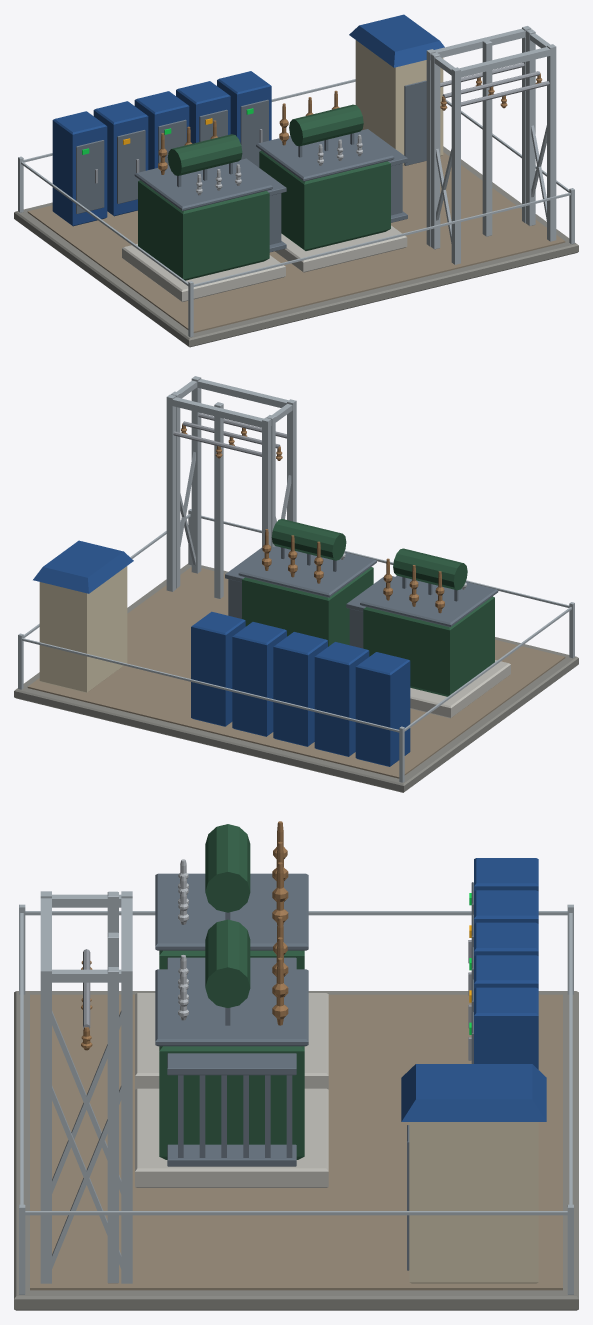
The model's file is UTILITY_06.obj.
3 views of the same model, one above another, from view 1: azimuth 30°, elevation 25°; view 2: azimuth 150°, elevation 25°; view 3: azimuth 270°, elevation 25° (orthographic). The views are drawn at different scales.
Parts seen in each view (by area): view 1: UTILITY_06__gravel, UTILITY_06__tank, UTILITY_06__switchgear, UTILITY_06__slab, UTILITY_06__tank_lid, UTILITY_06__gantry_a, UTILITY_06__sw_door, UTILITY_06__plinth, UTILITY_06__gantry, UTILITY_06__kiosk, UTILITY_06__conservator, UTILITY_06__kiosk_roof (+9 smaller); view 2: UTILITY_06__switchgear, UTILITY_06__gravel, UTILITY_06__tank, UTILITY_06__slab, UTILITY_06__kiosk, UTILITY_06__tank_lid, UTILITY_06__gantry_a, UTILITY_06__conservator, UTILITY_06__gantry, UTILITY_06__kiosk_roof, UTILITY_06__fence_rail, UTILITY_06__gantry_beam (+6 smaller); view 3: UTILITY_06__gravel, UTILITY_06__kiosk, UTILITY_06__slab, UTILITY_06__tank_lid, UTILITY_06__switchgear, UTILITY_06__plinth, UTILITY_06__gantry_a, UTILITY_06__tank, UTILITY_06__kiosk_roof, UTILITY_06__conservator, UTILITY_06__fence_rail, UTILITY_06__radiator_header (+6 smaller).
Boxes of the visible parts, bbox=[...] form: UTILITY_06__gravel: bbox=[27, 152, 565, 332]; UTILITY_06__tank: bbox=[138, 150, 390, 280]; UTILITY_06__switchgear: bbox=[52, 71, 271, 226]; UTILITY_06__slab: bbox=[14, 146, 578, 347]; UTILITY_06__tank_lid: bbox=[134, 131, 394, 210]; UTILITY_06__gantry_a: bbox=[426, 26, 556, 264]; UTILITY_06__sw_door: bbox=[76, 99, 268, 213]; UTILITY_06__plinth: bbox=[122, 225, 407, 301]; UTILITY_06__gantry: bbox=[430, 29, 535, 249]; UTILITY_06__kiosk: bbox=[355, 40, 443, 165]; UTILITY_06__conservator: bbox=[167, 104, 363, 175]; UTILITY_06__kiosk_roof: bbox=[349, 14, 444, 67]; UTILITY_06__switchgear: bbox=[191, 611, 410, 766]; UTILITY_06__gravel: bbox=[27, 567, 565, 778]; UTILITY_06__tank: bbox=[242, 567, 494, 696]; UTILITY_06__slab: bbox=[14, 563, 578, 792]; UTILITY_06__kiosk: bbox=[39, 566, 127, 692]; UTILITY_06__tank_lid: bbox=[238, 546, 498, 627]; UTILITY_06__gantry_a: bbox=[166, 376, 296, 591]; UTILITY_06__conservator: bbox=[271, 519, 467, 590]; UTILITY_06__gantry: bbox=[171, 391, 275, 598]; UTILITY_06__kiosk_roof: bbox=[33, 540, 133, 593]; UTILITY_06__fence_rail: bbox=[22, 514, 571, 732]; UTILITY_06__gantry_beam: bbox=[170, 379, 292, 427]; UTILITY_06__gravel: bbox=[30, 994, 562, 1290]; UTILITY_06__kiosk: bbox=[409, 1122, 538, 1283]; UTILITY_06__slab: bbox=[14, 991, 578, 1310]; UTILITY_06__tank_lid: bbox=[155, 873, 308, 1046]; UTILITY_06__switchgear: bbox=[474, 858, 538, 1069]; UTILITY_06__plinth: bbox=[135, 993, 328, 1187]; UTILITY_06__gantry_a: bbox=[40, 891, 132, 1283]; UTILITY_06__tank: bbox=[159, 950, 304, 1159]; UTILITY_06__kiosk_roof: bbox=[401, 1064, 546, 1121]; UTILITY_06__conservator: bbox=[205, 824, 250, 1007]; UTILITY_06__fence_rail: bbox=[20, 911, 572, 1215]; UTILITY_06__radiator_header: bbox=[167, 957, 296, 1166].
Bounding box in the file's own units: 9 × 4.5 × 7.
